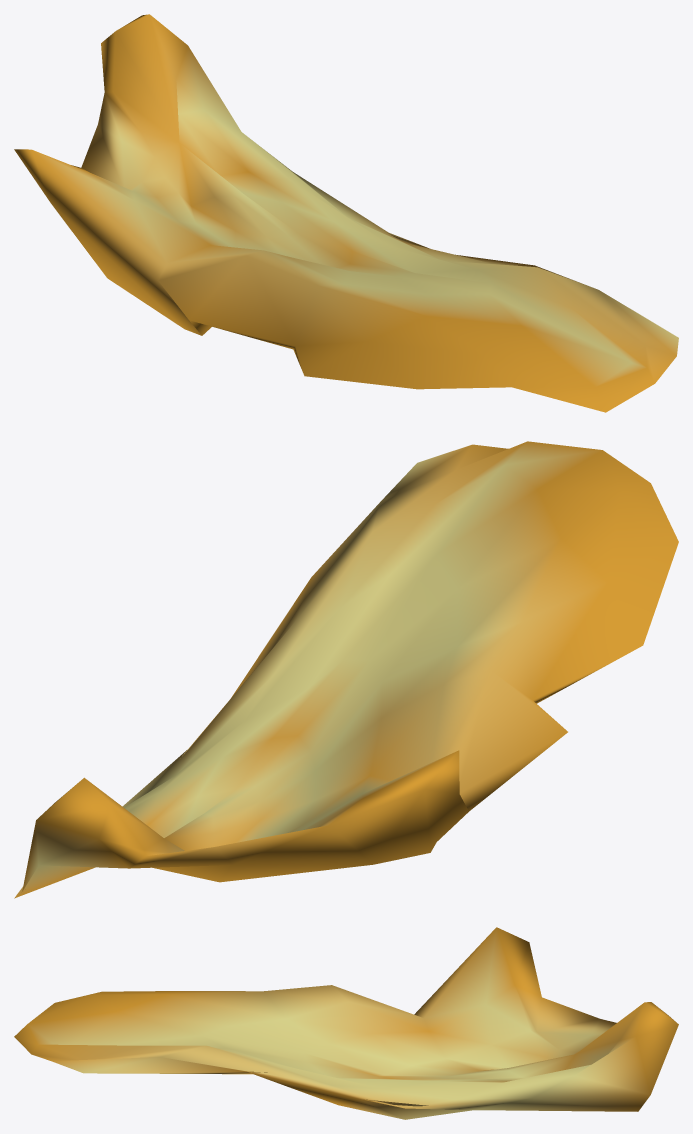
The model's file is LavaSplash_frame016.glb.
3 views of the same model, one above another, from view 1: azimuth 30°, elevation 25°; view 2: azimuth 150°, elevation 25°; view 3: azimuth 270°, elevation 25° (orthographic). The views are drawn at different scales.
Visible parts, largest first — view 1: LavaSplash_frame016; view 2: LavaSplash_frame016; view 3: LavaSplash_frame016.
Part boxes in pixels (x1=…): LavaSplash_frame016: x1=14, y1=14, x2=678, y2=412; LavaSplash_frame016: x1=14, y1=441, x2=678, y2=898; LavaSplash_frame016: x1=14, y1=927, x2=678, y2=1119.
Bounding box in the file's own units: 1.9 × 0.8063 × 4.71.
